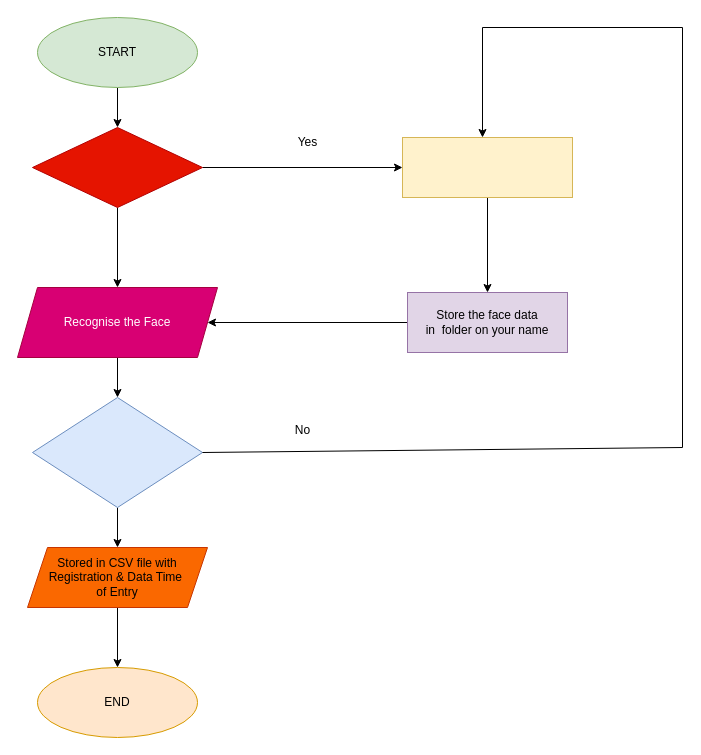
Image size: 701x755. Some labels were removed from this diagram. Here are the shapes that lost their labels. From the top down, the centre of each, then its label:
the point at 117,167: New User
the point at 487,167: Give Your Photograph
the point at 117,452: Face Recognised
